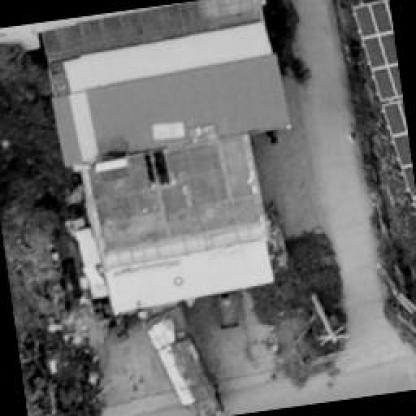solar-pv-panel: (352, 0, 416, 213)
